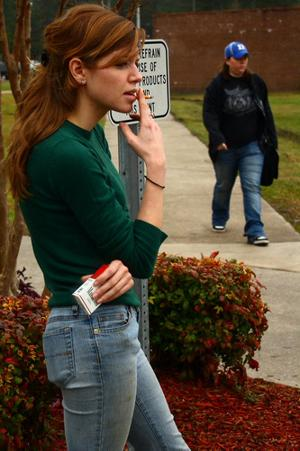person: (7, 1, 195, 451)
